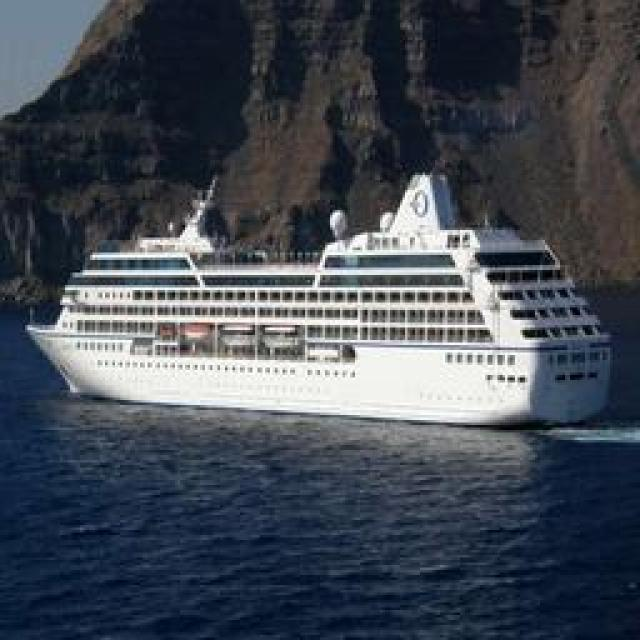ship2: (24, 174, 612, 431)
